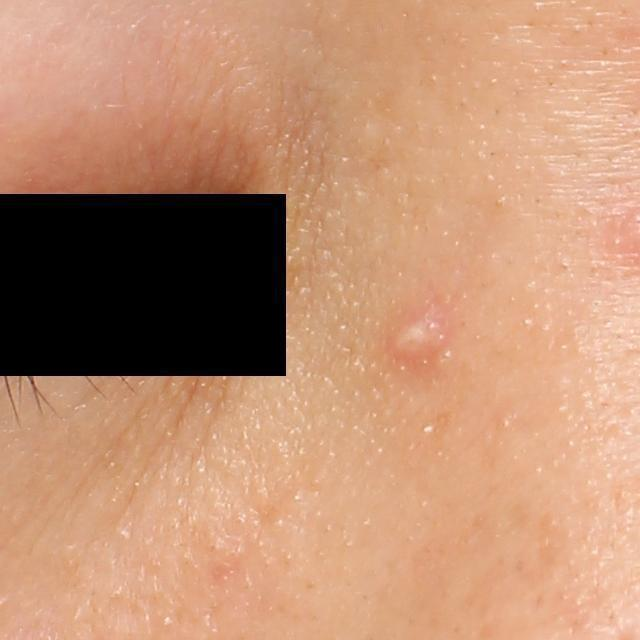pustule: (383, 298, 463, 372)
